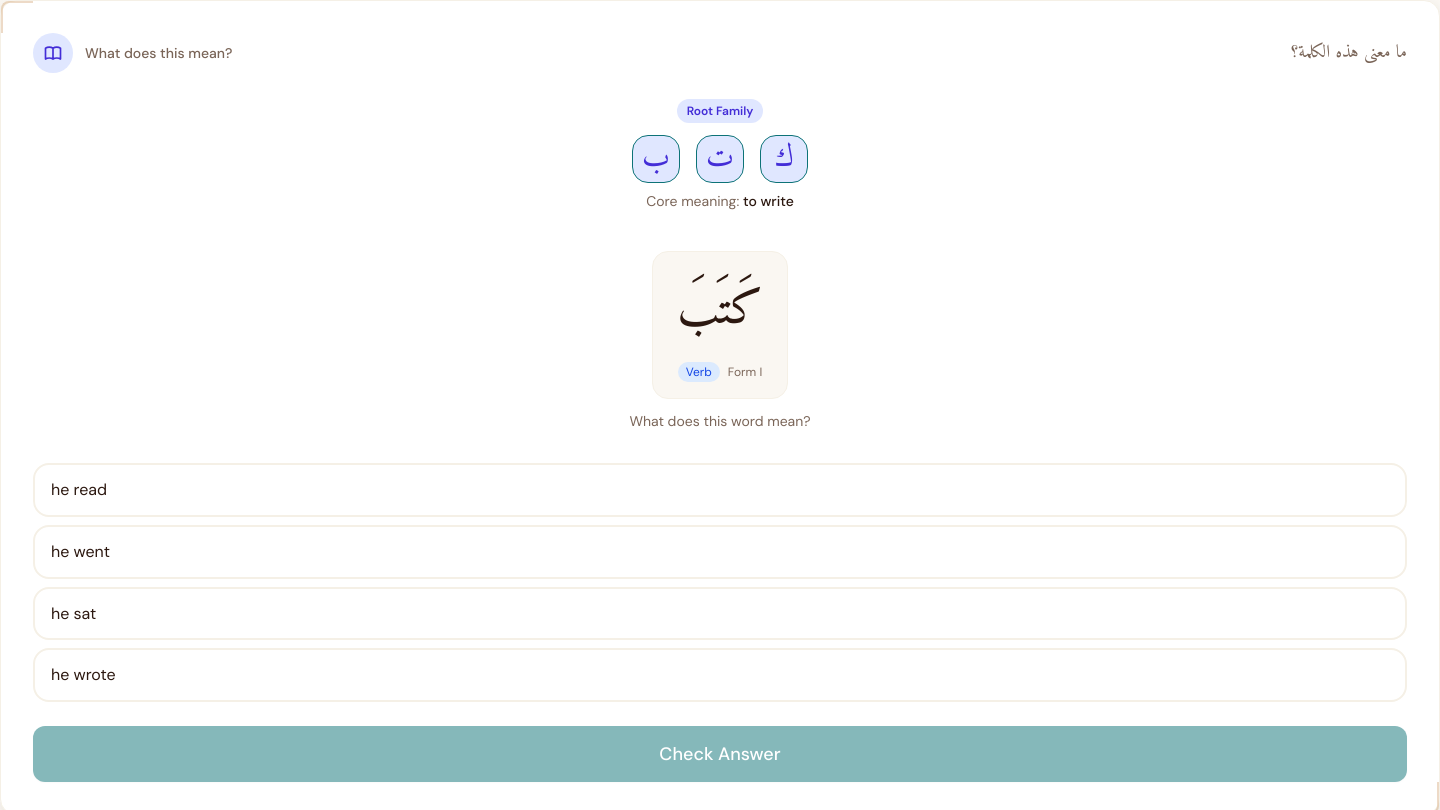
Test case: RootFamilyExercise - Match Meanings › disables options after submission
# Select and submit
Click the button "he wrote".
click(83, 675)  # box [33,648,1407,702]
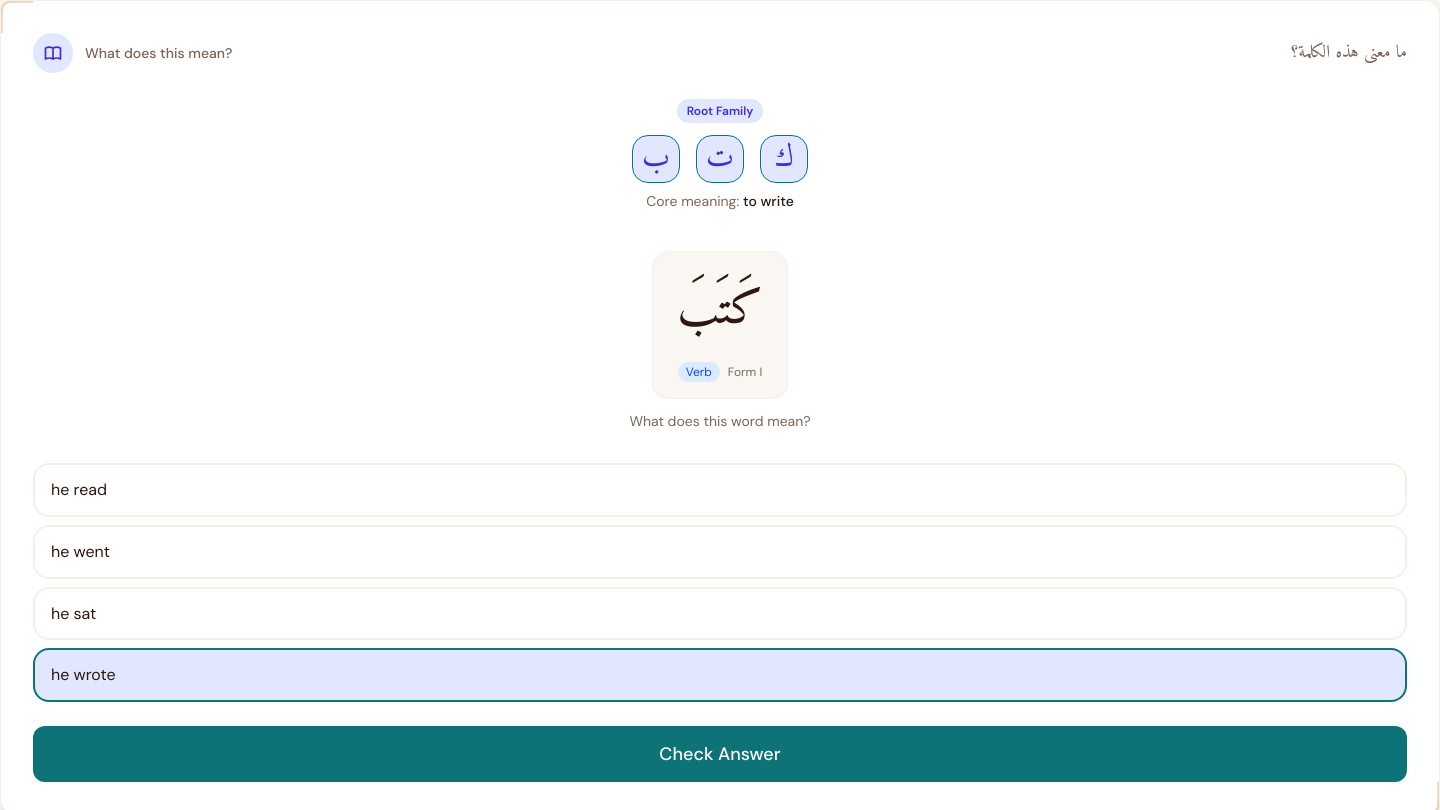
Click the button "Check Answer".
click(720, 754)  # box [33,726,1407,782]
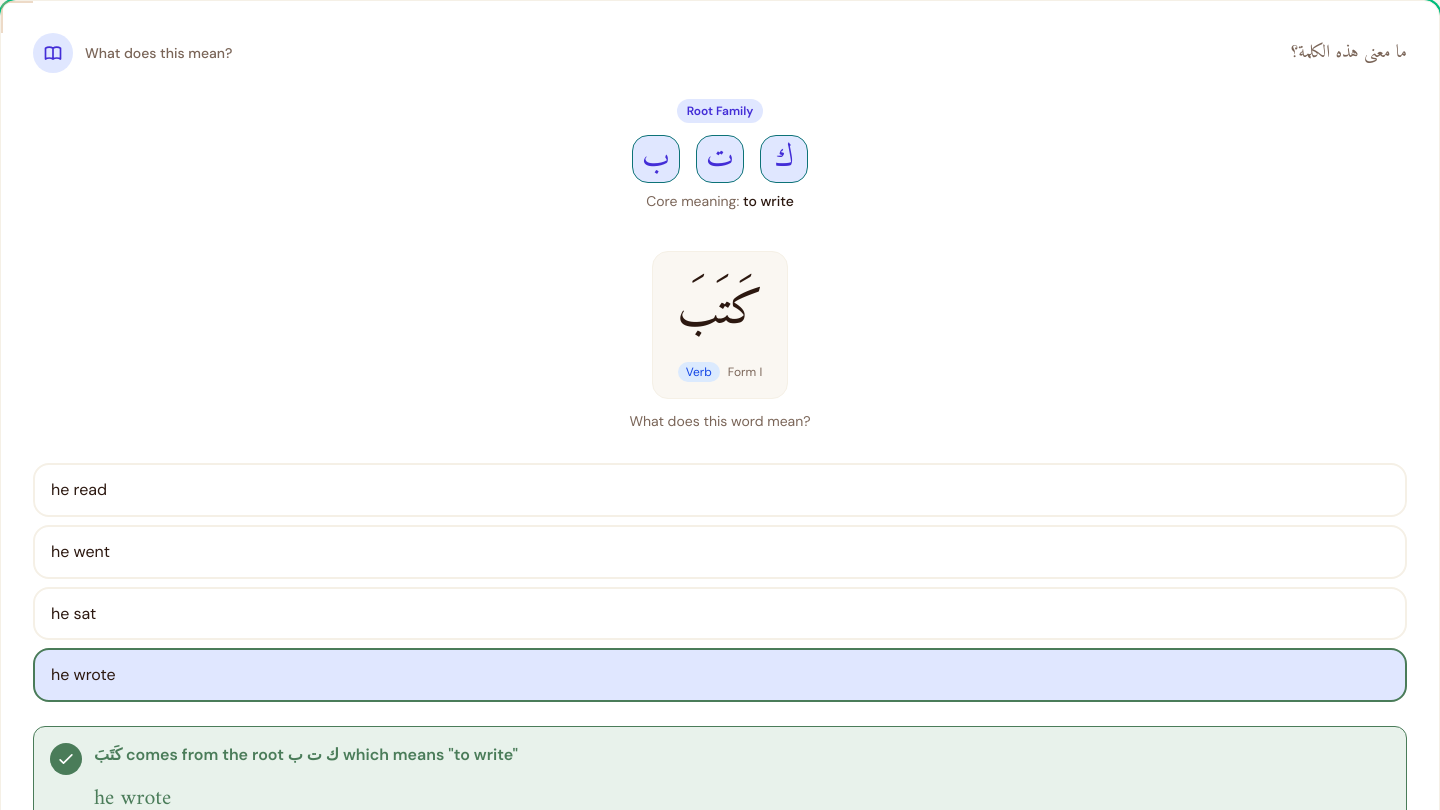
Expected: the button "he read" is disabled, [33,463,1407,517]
Result: the button "he wrote" is disabled at [33,648,1407,702]
